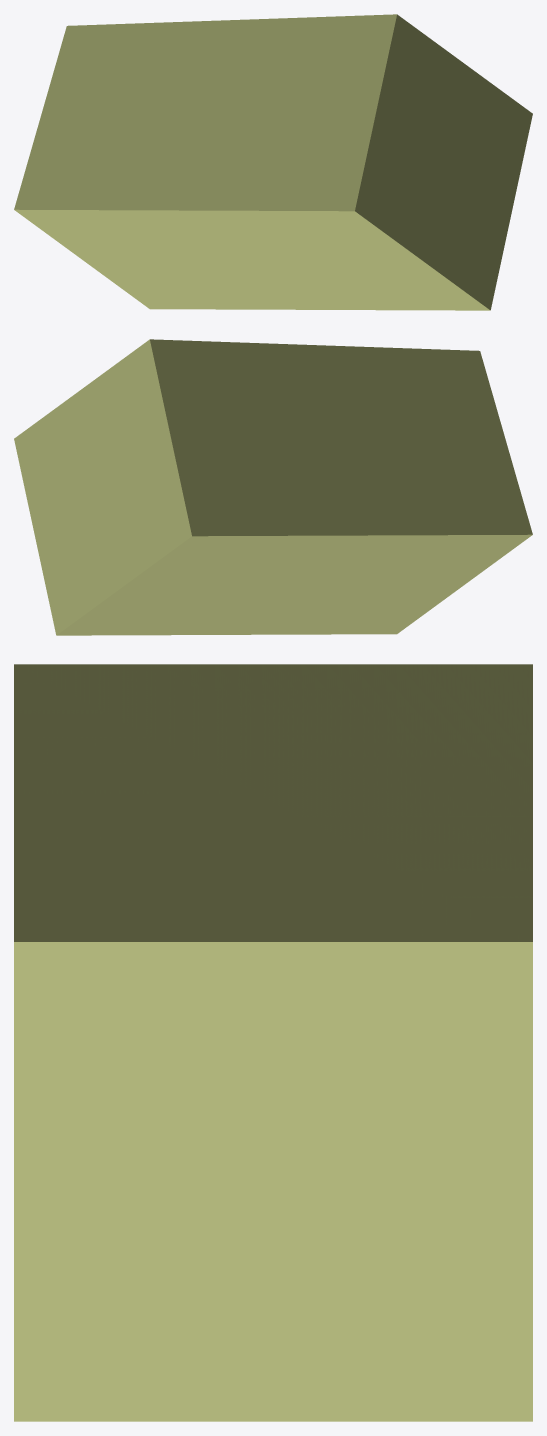
The picture shows the model from 3 angles, top to bottom: view 1: azimuth 30°, elevation 25°; view 2: azimuth 150°, elevation 25°; view 3: azimuth 270°, elevation 25°; orthographic projection. The views are drawn at different scales.
Visible parts, largest first — view 1: 0_1_0_1_3_3_3_3_2_1_2; view 2: 0_1_0_1_3_3_3_3_2_1_2; view 3: 0_1_0_1_3_3_3_3_2_1_2.
Boxes of the visible parts, left/top/right/bottom form: 0_1_0_1_3_3_3_3_2_1_2: left=14, top=14, right=532, bottom=310; 0_1_0_1_3_3_3_3_2_1_2: left=14, top=339, right=532, bottom=635; 0_1_0_1_3_3_3_3_2_1_2: left=14, top=664, right=532, bottom=1421.
Bounding box in the file's own units: 9.77 × 6.23 × 6.
